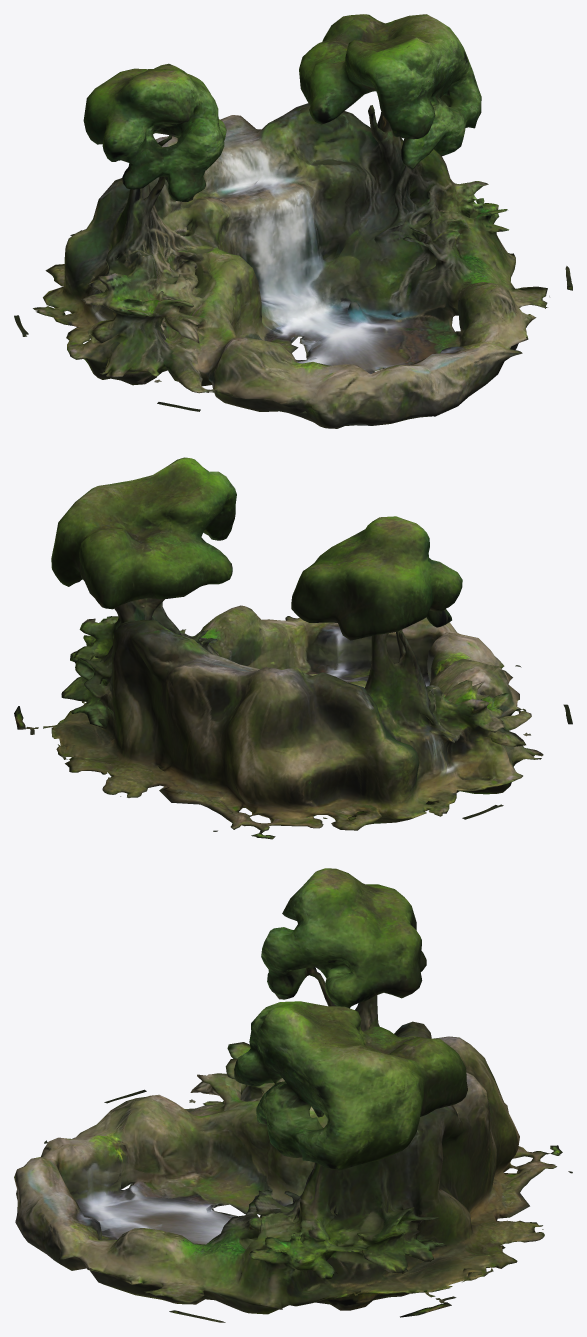
The model's file is Meshy_AI_The_image_features_a__1013151630_texture.fbx.
3 views of the same model, one above another, from view 1: azimuth 30°, elevation 25°; view 2: azimuth 150°, elevation 25°; view 3: azimuth 270°, elevation 25° (orthographic). The views are drawn at different scales.
Parts seen in each view (by area): view 1: Mesh1_Mesh1.007; view 2: Mesh1_Mesh1.007; view 3: Mesh1_Mesh1.007.
Part boxes in pixels (bbox=[...]): Mesh1_Mesh1.007: bbox=[14, 14, 572, 428]; Mesh1_Mesh1.007: bbox=[14, 457, 572, 839]; Mesh1_Mesh1.007: bbox=[14, 868, 572, 1322].
Size of the model in its own units: 193 by 106 by 182.
1 material, 1 textured.
